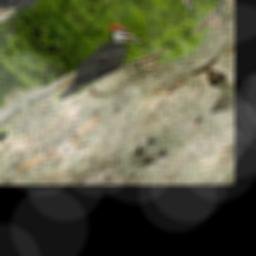Woodpecker: (32, 17, 160, 115)
